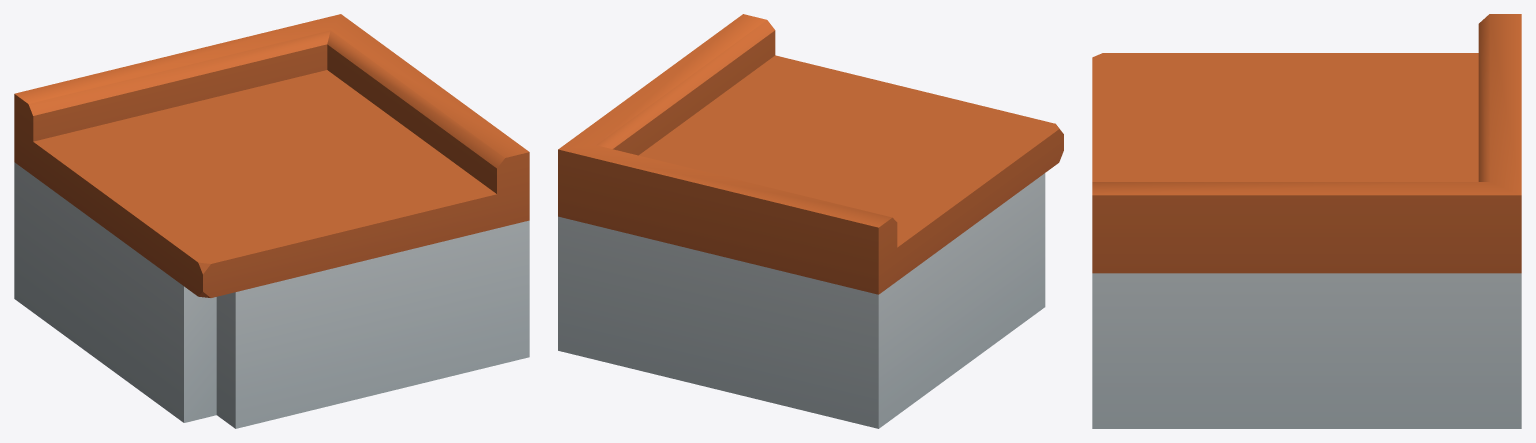
Rendered from kay-kitchencounter_innercorner_backsplash.glb.
3 renders of one model, left to right at view 1: azimuth 30°, elevation 25°; view 2: azimuth 150°, elevation 25°; view 3: azimuth 270°, elevation 25°, orthographic. The views are drawn at different scales.
Visible parts, largest first — view 1: kitchencounter_innercorner_backsplash; view 2: kitchencounter_innercorner_backsplash; view 3: kitchencounter_innercorner_backsplash.
Part boxes in pixels (x1,y1,x2,y2): kitchencounter_innercorner_backsplash: (14,14,529,428); kitchencounter_innercorner_backsplash: (558,14,1063,428); kitchencounter_innercorner_backsplash: (1092,14,1521,428).
Bounding box in the file's own units: 1.2 × 0.72 × 1.2.
1 material, 1 textured.
